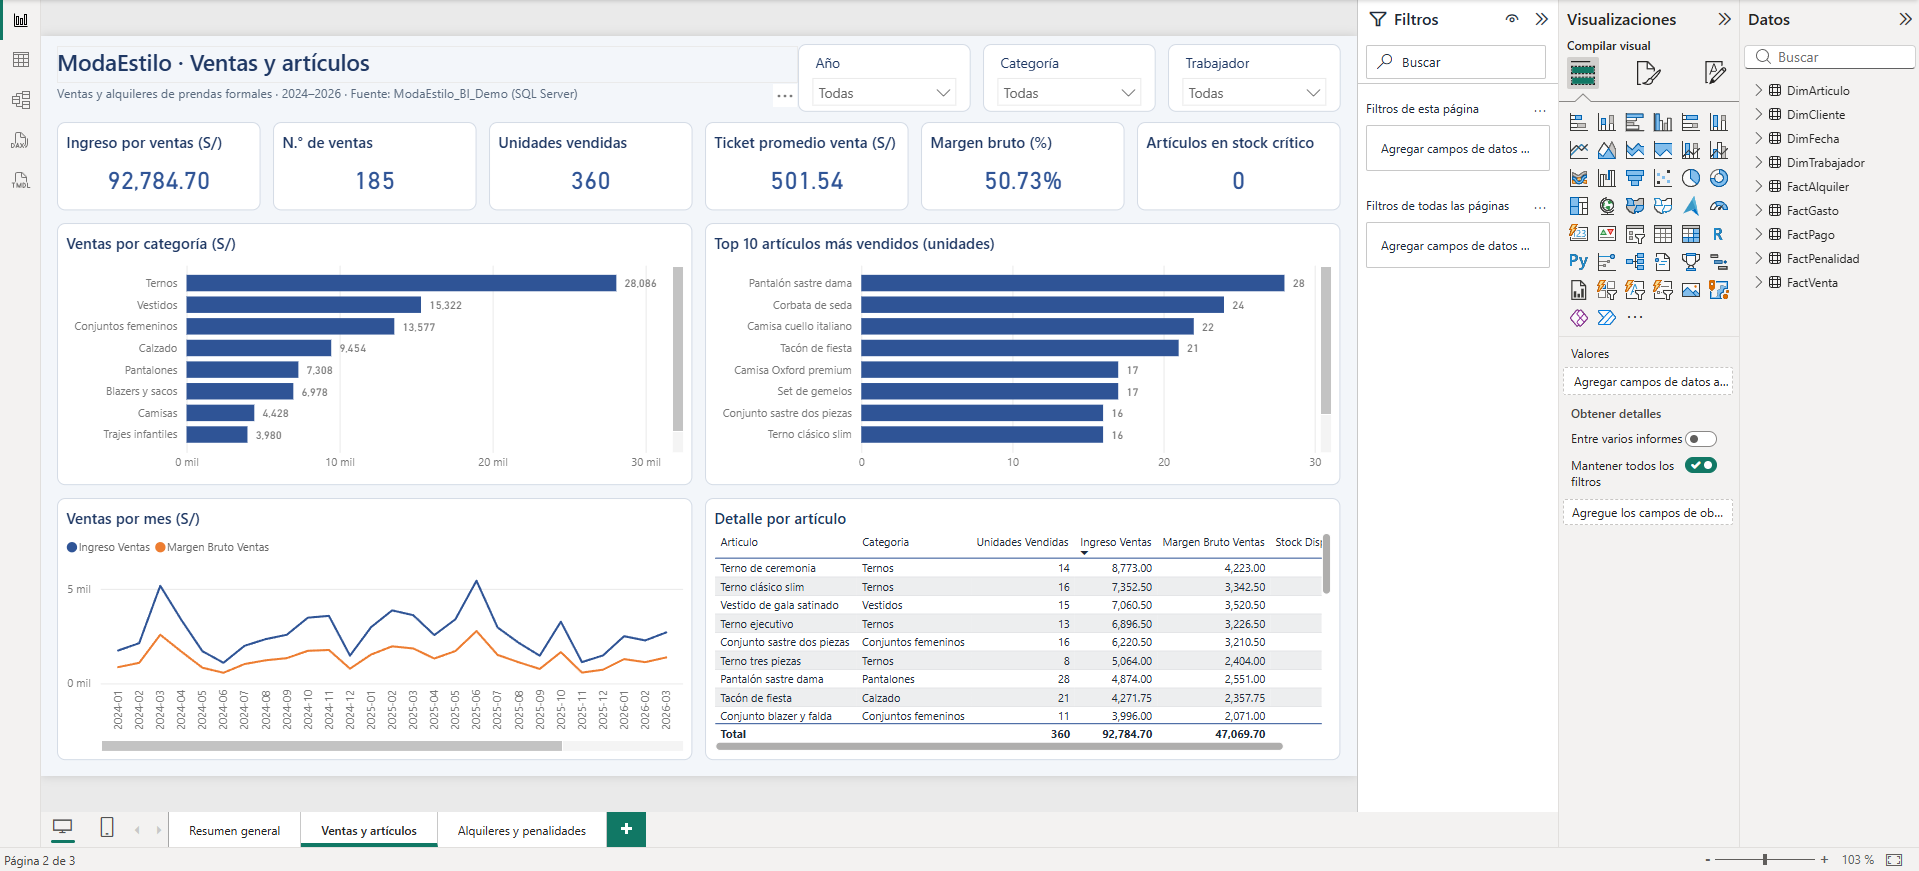

What the dashboard file says about the page in this screenshot:
{"tool":"powerbi","page":{"name":"Ventas y artículos","canvas":[1280,720],"ordinal":1},"visuals":[{"type":"textbox","box":[16,10,720,36],"z":1000},{"type":"textbox","box":[16,46,720,22],"z":2000},{"type":"slicer","fields":{"Values":["DimFecha.Anio"]},"box":[736,8,168,66],"z":3000},{"type":"slicer","fields":{"Values":["DimArticulo.Categoria"]},"box":[916,8,168,66],"z":4000},{"type":"slicer","fields":{"Values":["DimTrabajador.Trabajador"]},"box":[1096,8,168,66],"z":5000},{"type":"card","title":"Ingreso por ventas (S/)","fields":{"Values":["FactVenta.Ingreso Ventas"]},"box":[16,84,198,86],"z":6000},{"type":"card","title":"N.° de ventas","fields":{"Values":["FactVenta.Número de Ventas"]},"box":[226,84,198,86],"z":7000},{"type":"card","title":"Unidades vendidas","fields":{"Values":["FactVenta.Unidades Vendidas"]},"box":[436,84,198,86],"z":8000},{"type":"card","title":"Ticket promedio venta (S/)","fields":{"Values":["FactVenta.Ticket Promedio Venta"]},"box":[646,84,198,86],"z":9000},{"type":"card","title":"Margen bruto (%)","fields":{"Values":["FactVenta.% Margen Bruto"]},"box":[856,84,198,86],"z":10000},{"type":"card","title":"Artículos en stock crítico","fields":{"Values":["DimArticulo.Artículos en Stock Crítico"]},"box":[1066,84,198,86],"z":11000},{"type":"clusteredBarChart","title":"Ventas por categoría (S/)","fields":{"Category":["DimArticulo.Categoria"],"Y":["FactVenta.Ingreso Ventas"]},"box":[16,182,618,255],"z":12000},{"type":"clusteredBarChart","title":"Top 10 artículos más vendidos (unidades)","fields":{"Category":["DimArticulo.Articulo"],"Y":["FactVenta.Unidades Vendidas Top 10"]},"box":[646,182,618,255],"z":13000},{"type":"lineChart","title":"Ventas por mes (S/)","fields":{"Category":["DimFecha.AnioMes"],"Y":["FactVenta.Ingreso Ventas","FactVenta.Margen Bruto Ventas"]},"box":[16,449,618,255],"z":14000},{"type":"tableEx","title":"Detalle por artículo","fields":{"Values":["DimArticulo.Articulo","DimArticulo.Categoria","FactVenta.Unidades Vendidas","FactVenta.Ingreso Ventas","FactVenta.Margen Bruto Ventas","DimArticulo.Stock Disponible"]},"box":[646,449,618,255],"z":15000}]}

Visuals, with their boxes on the page's 1280x720 design canvas (x1, y1, x2, y2). These are canvas units, not pixel positions in the 1919x871 screenshot, which may show the page scaled, cropped or inside an application window:
textbox: x1=16, y1=10, x2=736, y2=46
textbox: x1=16, y1=46, x2=736, y2=68
slicer - DimFecha.Anio: x1=736, y1=8, x2=904, y2=74
slicer - DimArticulo.Categoria: x1=916, y1=8, x2=1084, y2=74
slicer - DimTrabajador.Trabajador: x1=1096, y1=8, x2=1264, y2=74
"Ingreso por ventas (S/)" card: x1=16, y1=84, x2=214, y2=170
"N.° de ventas" card: x1=226, y1=84, x2=424, y2=170
"Unidades vendidas" card: x1=436, y1=84, x2=634, y2=170
"Ticket promedio venta (S/)" card: x1=646, y1=84, x2=844, y2=170
"Margen bruto (%)" card: x1=856, y1=84, x2=1054, y2=170
"Artículos en stock crítico" card: x1=1066, y1=84, x2=1264, y2=170
"Ventas por categoría (S/)" clusteredBarChart: x1=16, y1=182, x2=634, y2=437
"Top 10 artículos más vendidos (unidades)" clusteredBarChart: x1=646, y1=182, x2=1264, y2=437
"Ventas por mes (S/)" lineChart: x1=16, y1=449, x2=634, y2=704
"Detalle por artículo" tableEx: x1=646, y1=449, x2=1264, y2=704
